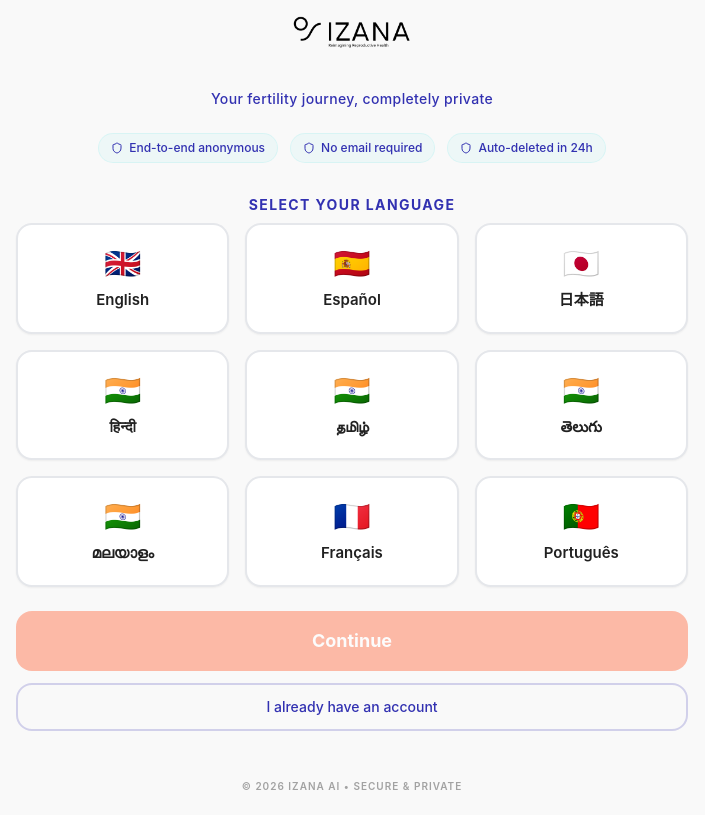
Test case: Onboarding Page › should show translated consent text for Japanese
Click the text "日本語" at (581, 300), box [559, 289, 604, 312]
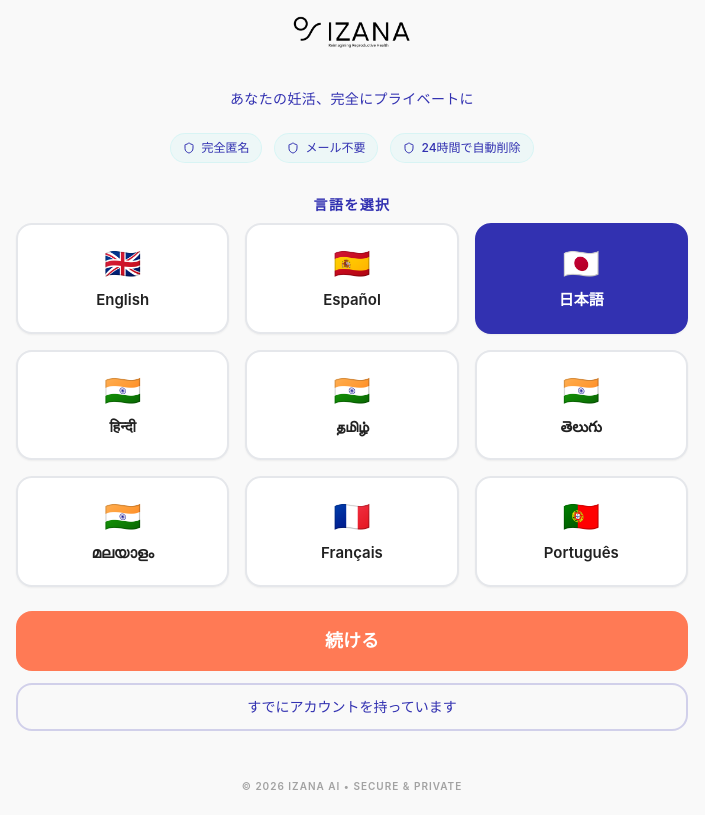
Click the button "続ける" at (352, 640), box [16, 610, 688, 670]
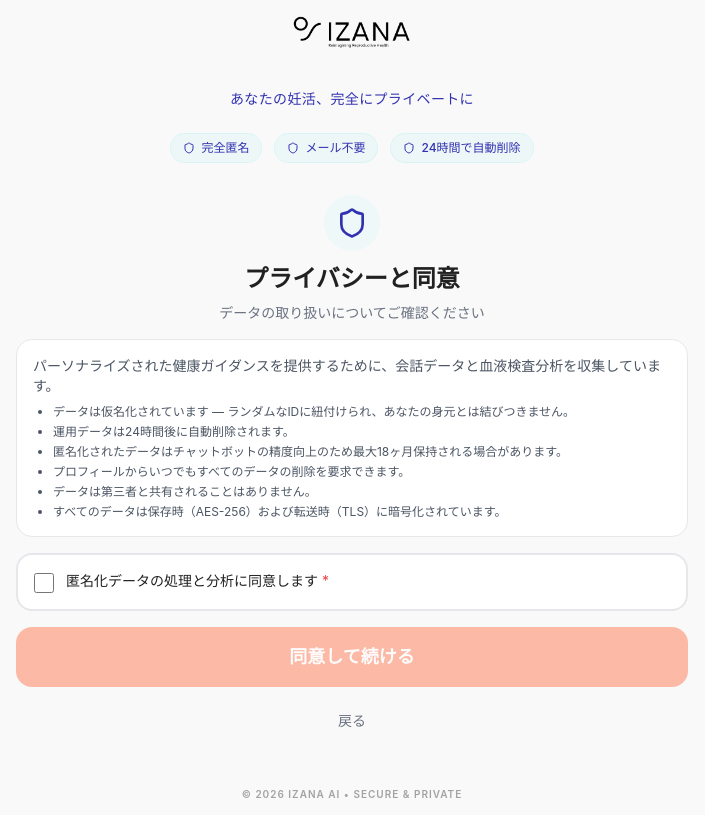
expect the heading "プライバシーと同意" is shown: met, box [244, 264, 460, 293]
